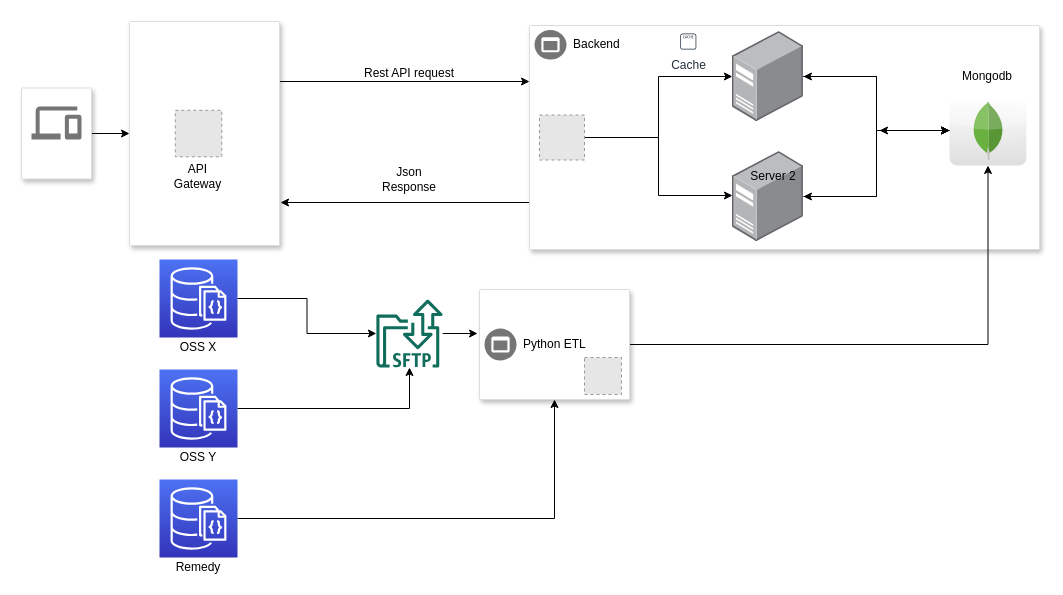
Image size: 1063x595. Some labels were removed from this diagram. Grey dashed boxes stand in for pictures. Each missing label, with the centre of its shape:
Client: the point at 57,134
Server 1: the point at 767,76
